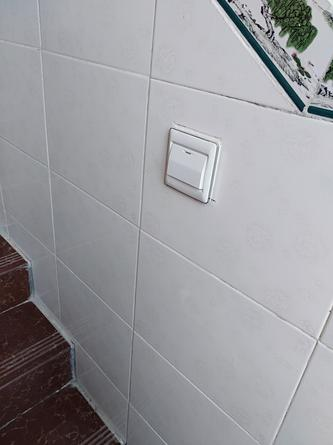switch: (166, 138, 209, 194)
